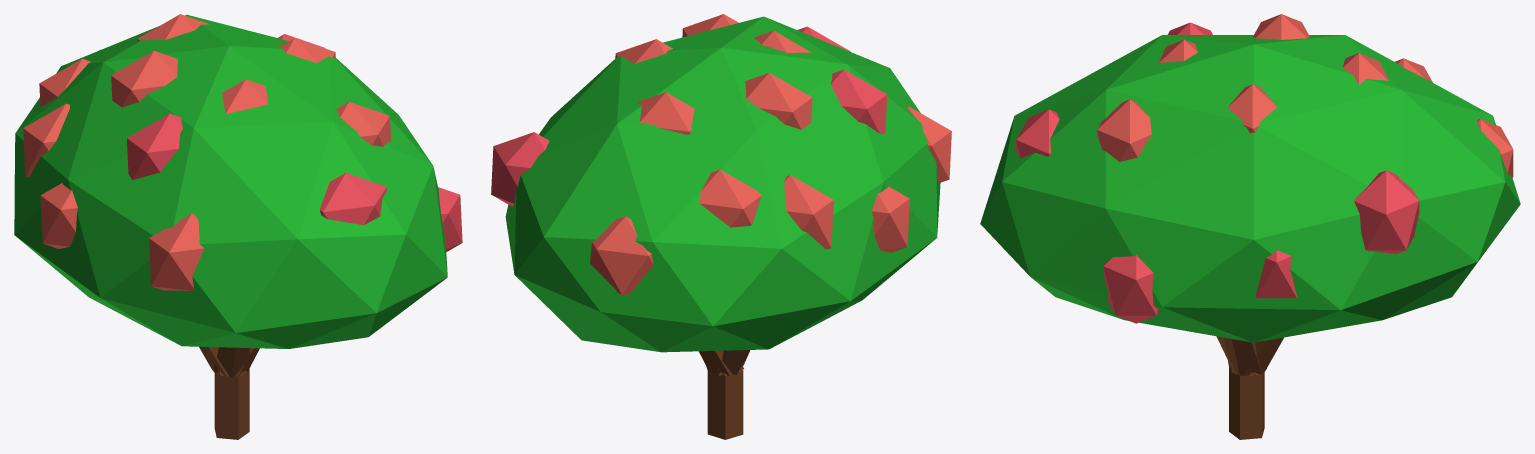
Rendered from bush_flowers.fbx.
The picture shows the model from 3 angles, left to right: view 1: azimuth 30°, elevation 25°; view 2: azimuth 150°, elevation 25°; view 3: azimuth 270°, elevation 25°; orthographic projection.
Visible parts, largest first — view 1: Icosphere.009; view 2: Icosphere.009; view 3: Icosphere.009.
Boxes of the visible parts, x1=… form: Icosphere.009: x1=14, y1=14, x2=462, y2=439; Icosphere.009: x1=491, y1=14, x2=951, y2=439; Icosphere.009: x1=980, y1=14, x2=1520, y2=439.
Bounding box in the file's own units: 337 × 339 × 427.
